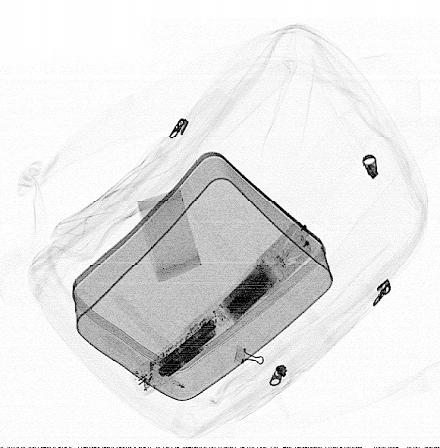Baton: (132, 222, 313, 397)
